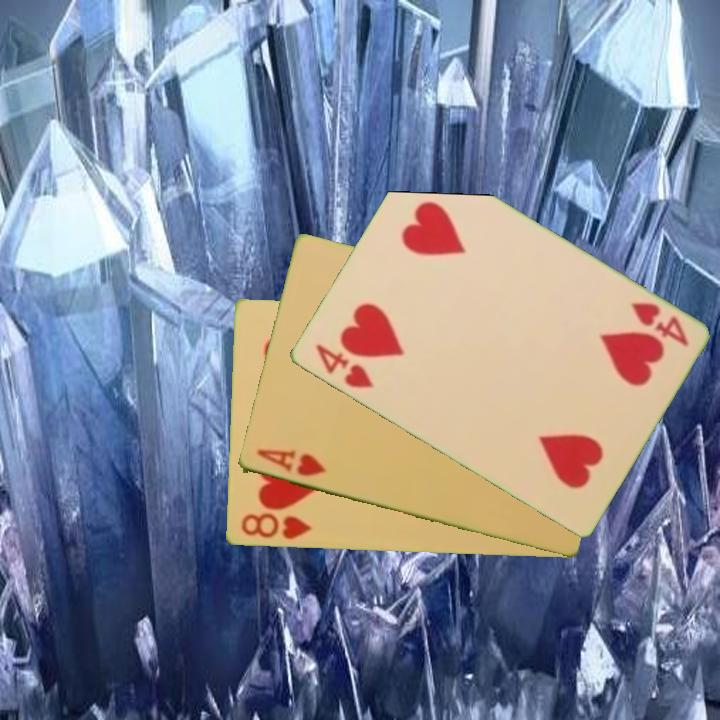4h: (311, 340, 377, 392), (626, 299, 691, 350)
8h: (237, 510, 314, 543)
Ah: (252, 446, 328, 480)
